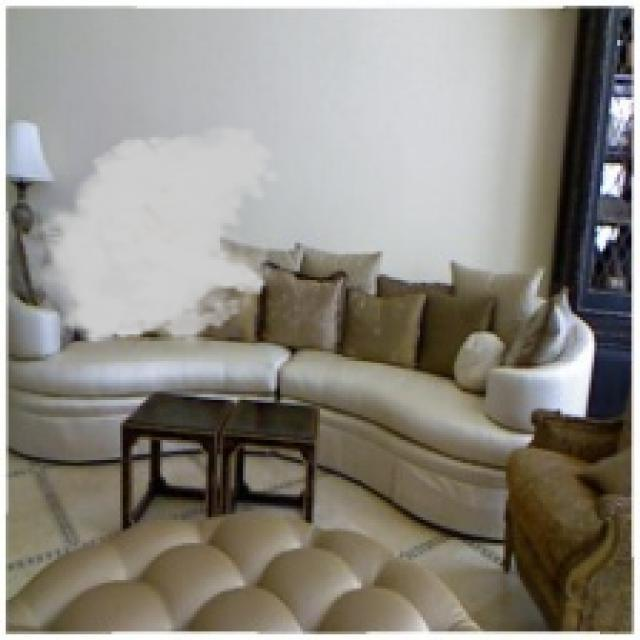Smoke: (23, 122, 283, 358)
